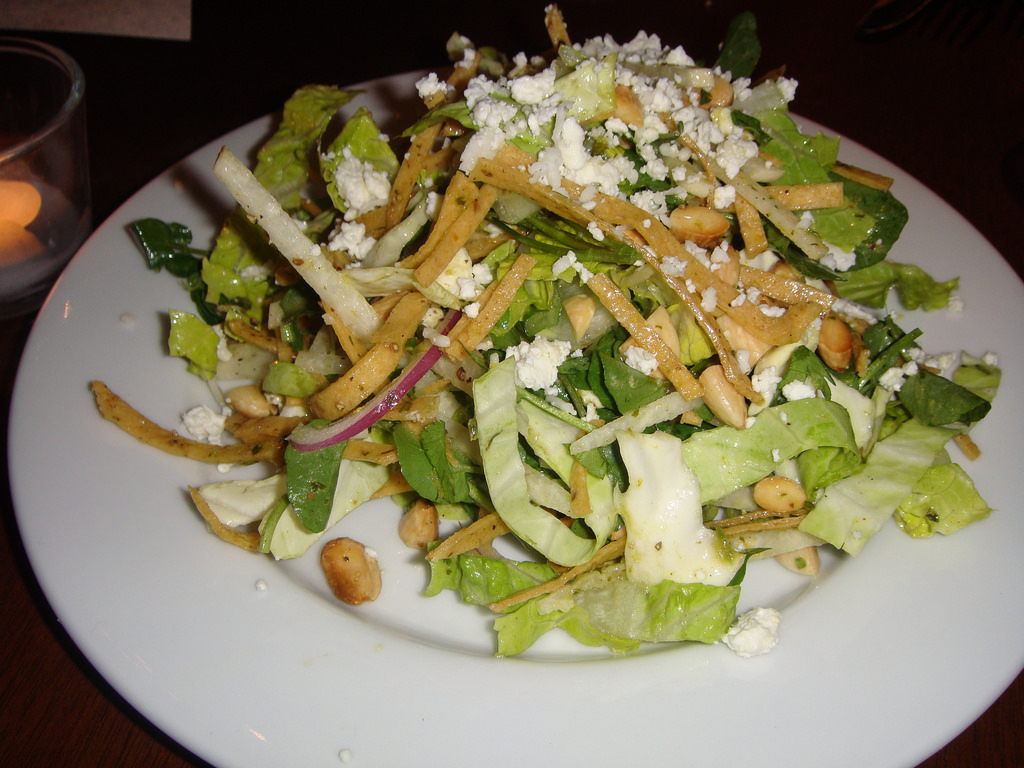chopped lettuce: (470, 340, 783, 620)
